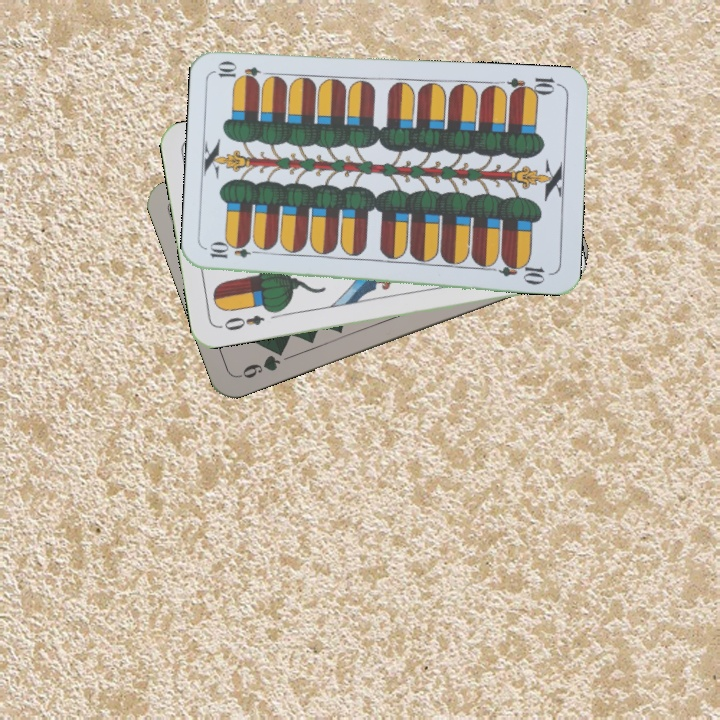E10: (504, 73, 563, 99), (206, 242, 265, 261)
EO: (215, 311, 267, 333)
G9: (235, 343, 288, 381)
